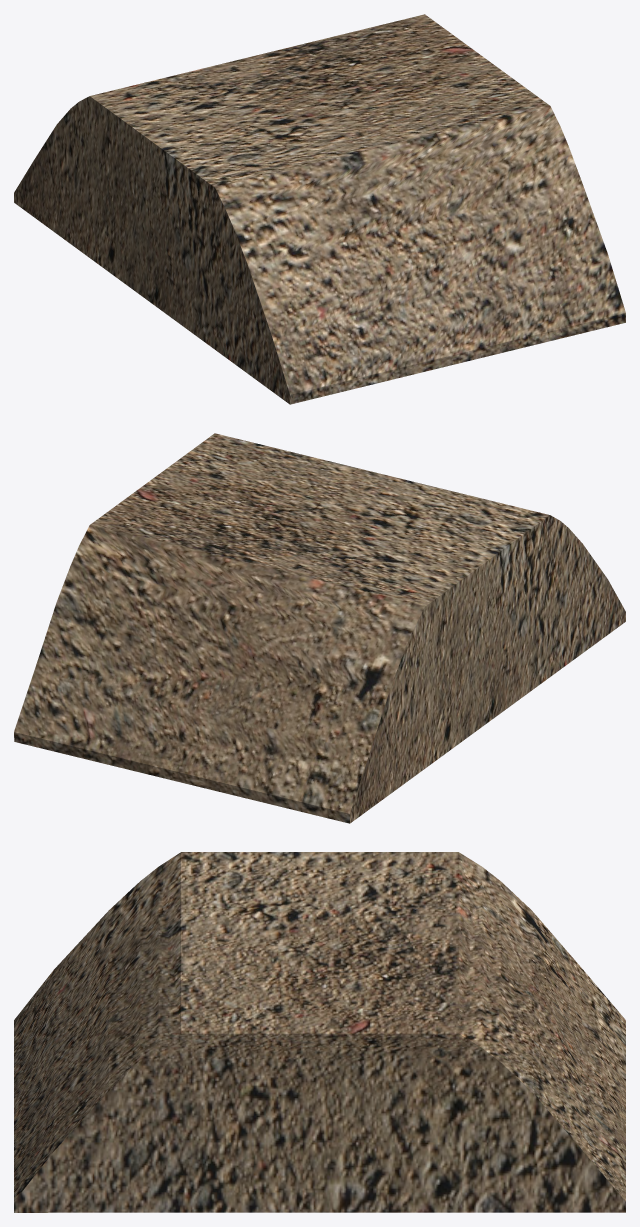
3 renders of one model, top to bottom at view 1: azimuth 30°, elevation 25°; view 2: azimuth 150°, elevation 25°; view 3: azimuth 270°, elevation 25°, orthographic. The views are drawn at different scales.
Visible parts, largest first — view 1: Box002; view 2: Box002; view 3: Box002.
Boxes of the visible parts, <box> form: Box002: <box>14,14,625,404</box>; Box002: <box>14,433,625,823</box>; Box002: <box>14,852,625,1212</box>.
Bounding box in the file's own units: 84.35 × 38.76 × 120.
Materials: 1 (1 with a texture image).
